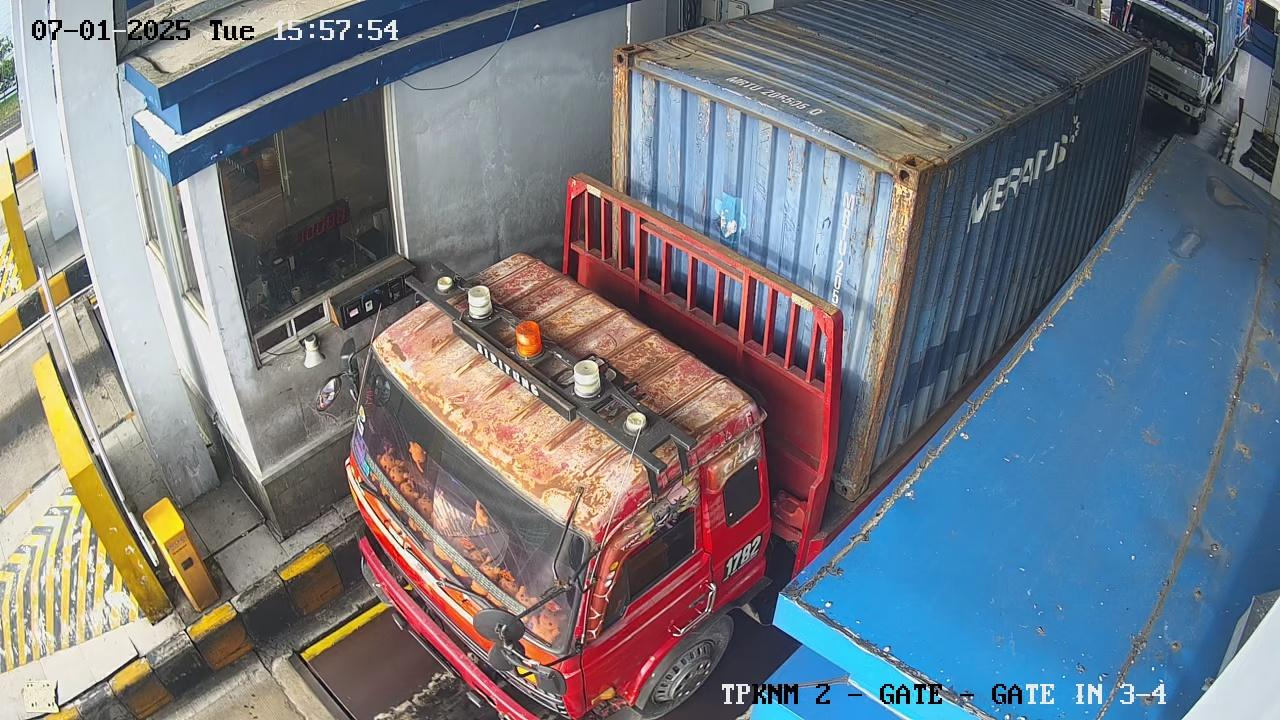Container_ID: (723, 75, 824, 122)
Container_ID_Vertikal: (827, 171, 863, 307)
